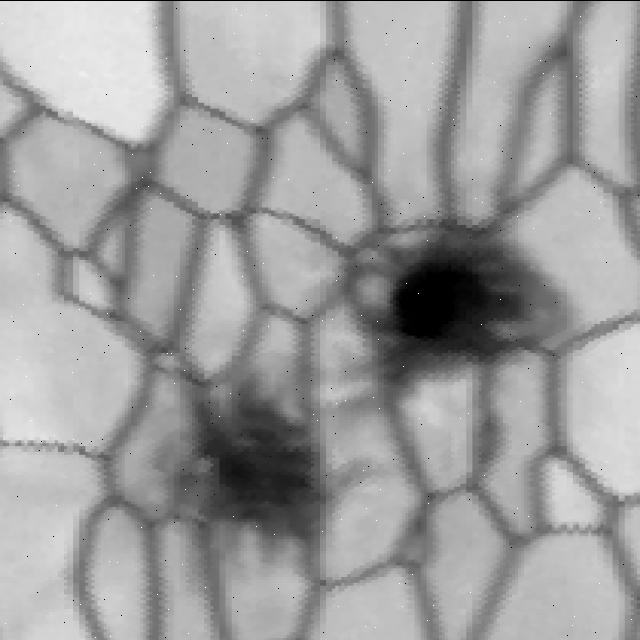good_void: (322, 183, 579, 419), (138, 340, 360, 580)
